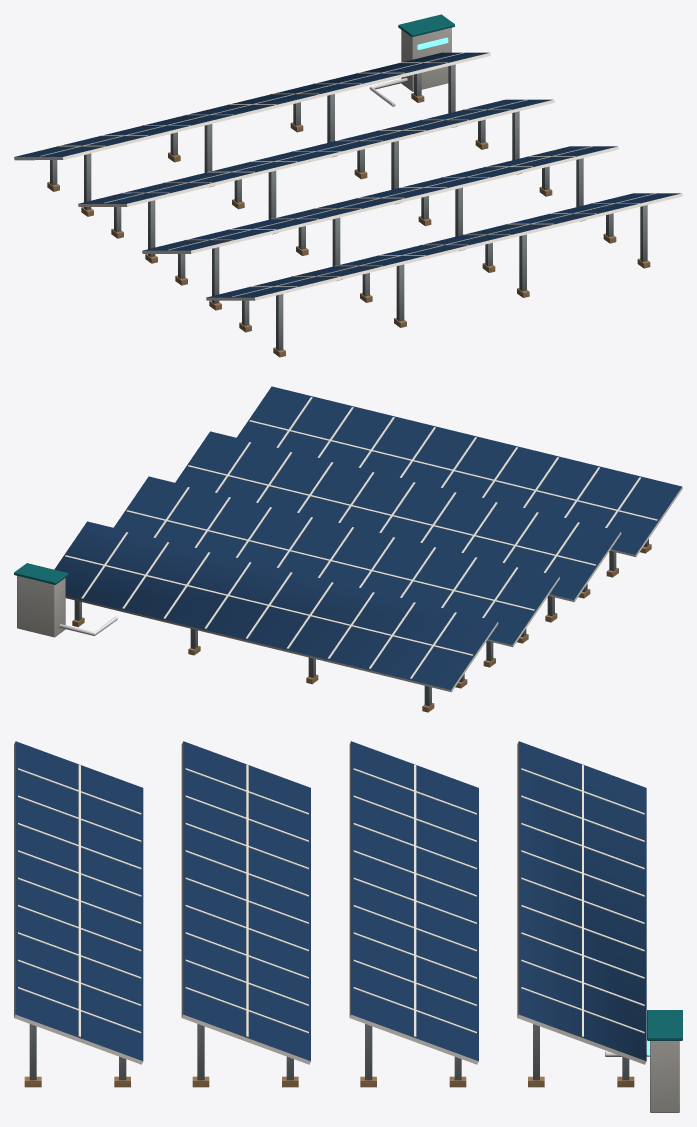
Rendered from solar_array.fbx.
The picture shows the model from 3 angles, top to bottom: view 1: azimuth 30°, elevation 25°; view 2: azimuth 150°, elevation 25°; view 3: azimuth 270°, elevation 25°; orthographic projection. The views are drawn at different scales.
Visible parts, largest first — view 1: solar_array; view 2: solar_array; view 3: solar_array.
Boxes of the visible parts, x1,y1,x2,y2 form: solar_array: (14,14,682,357); solar_array: (14,386,682,712); solar_array: (14,741,682,1112).
Bounding box in the file's own units: 11.15 × 1.68 × 11.17.
